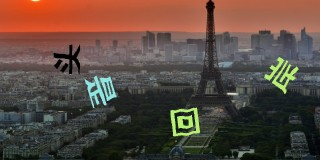回: (169, 106, 202, 138)
头: (53, 42, 82, 75)
岸: (262, 56, 300, 95)
是: (82, 75, 119, 108)
